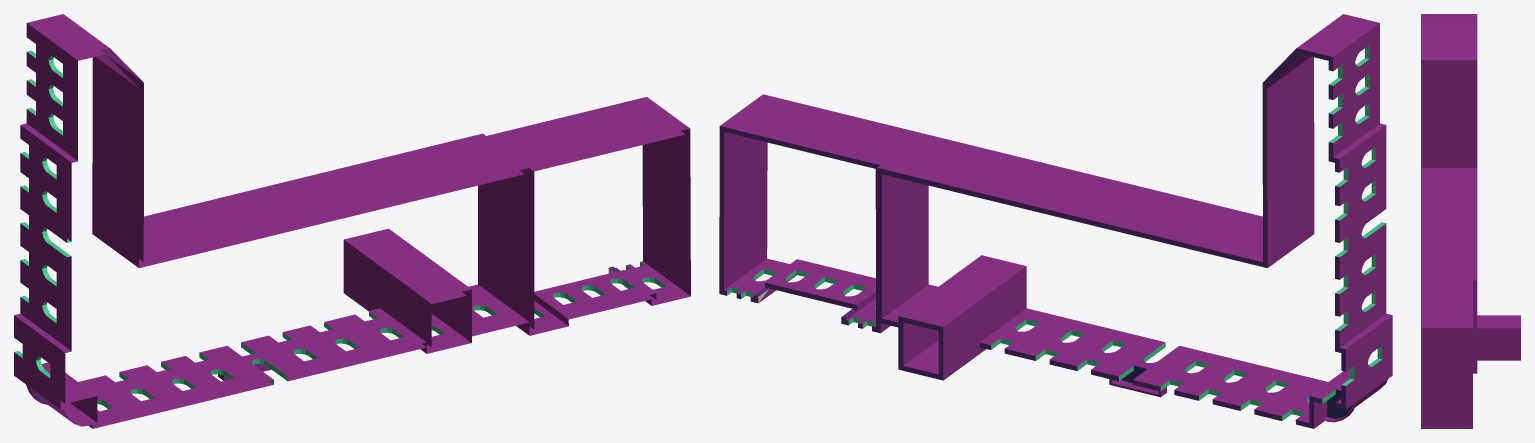
File: Ratusz Tier 2.fbx
3 views of the same model, side by side, from view 1: azimuth 30°, elevation 25°; view 2: azimuth 150°, elevation 25°; view 3: azimuth 270°, elevation 25° (orthographic). The views are drawn at different scales.
Parts seen in each view (by area): view 1: Ratusz_obj_0; view 2: Ratusz_obj_0; view 3: Ratusz_obj_0.
Boxes of the visible parts, x1,y1,x2,y2 form: Ratusz_obj_0: (14,14,690,428); Ratusz_obj_0: (719,14,1392,428); Ratusz_obj_0: (1421,14,1520,428).
Size of the model in its own units: 4.16 by 2.47 by 0.9502.
